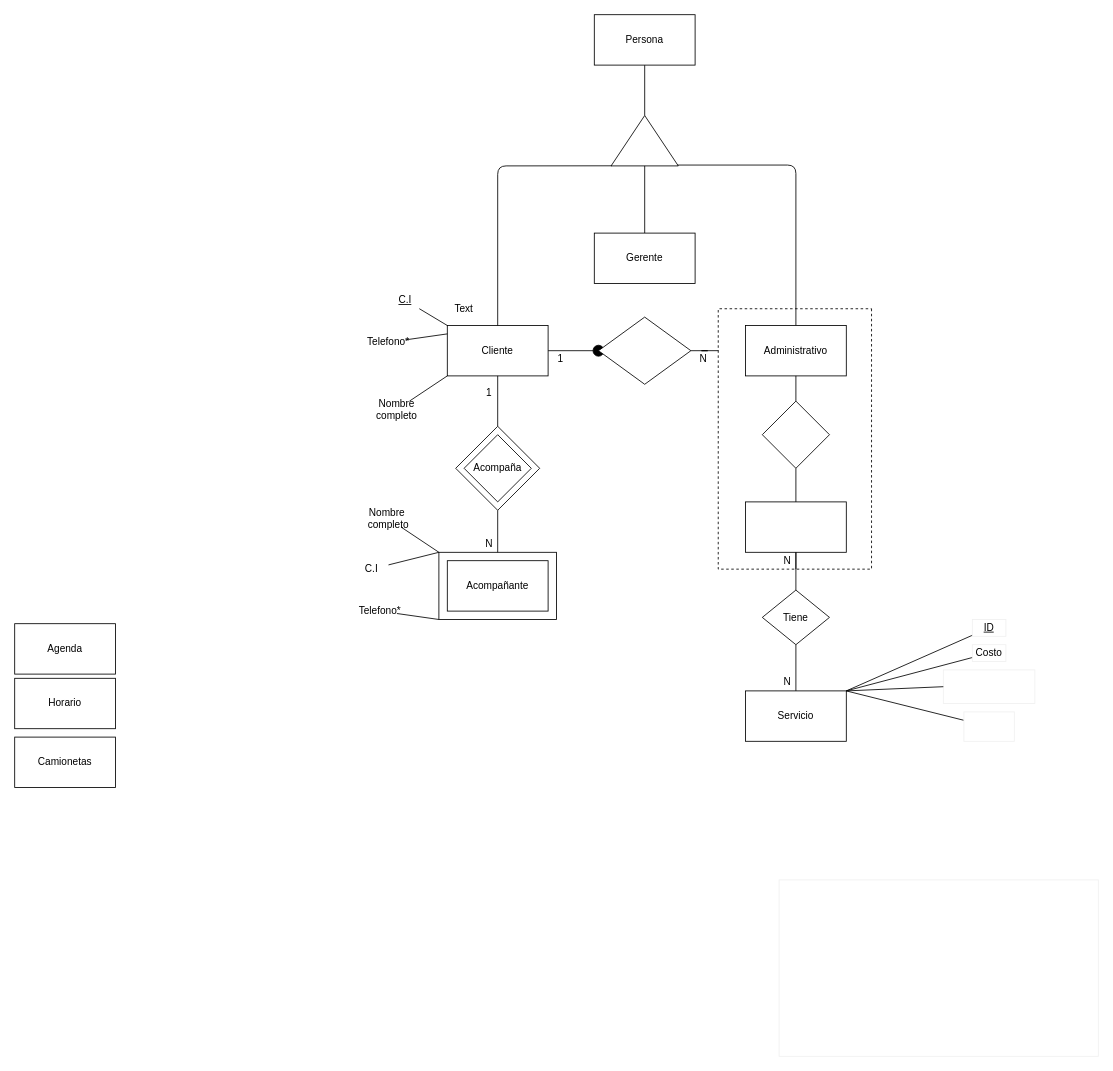
Image size: 1113x1071. Some labels were removed from this diagram. Here are the shapes that lost their labels. From the top down, the box of each, then its label:
(610, 115, 678, 166): Es
(598, 316, 691, 384): Hace
(761, 400, 830, 468): Administra
(745, 501, 846, 552): Reserva
(942, 669, 1035, 704): Nombre de servicio
(963, 711, 1014, 741): Capacidad diaria
(778, 879, 1098, 1056): Las reservas duran 24h luego se perderan
